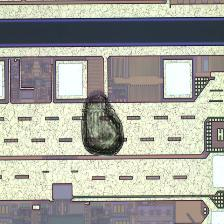COATING BAD: (76, 89, 131, 161)
